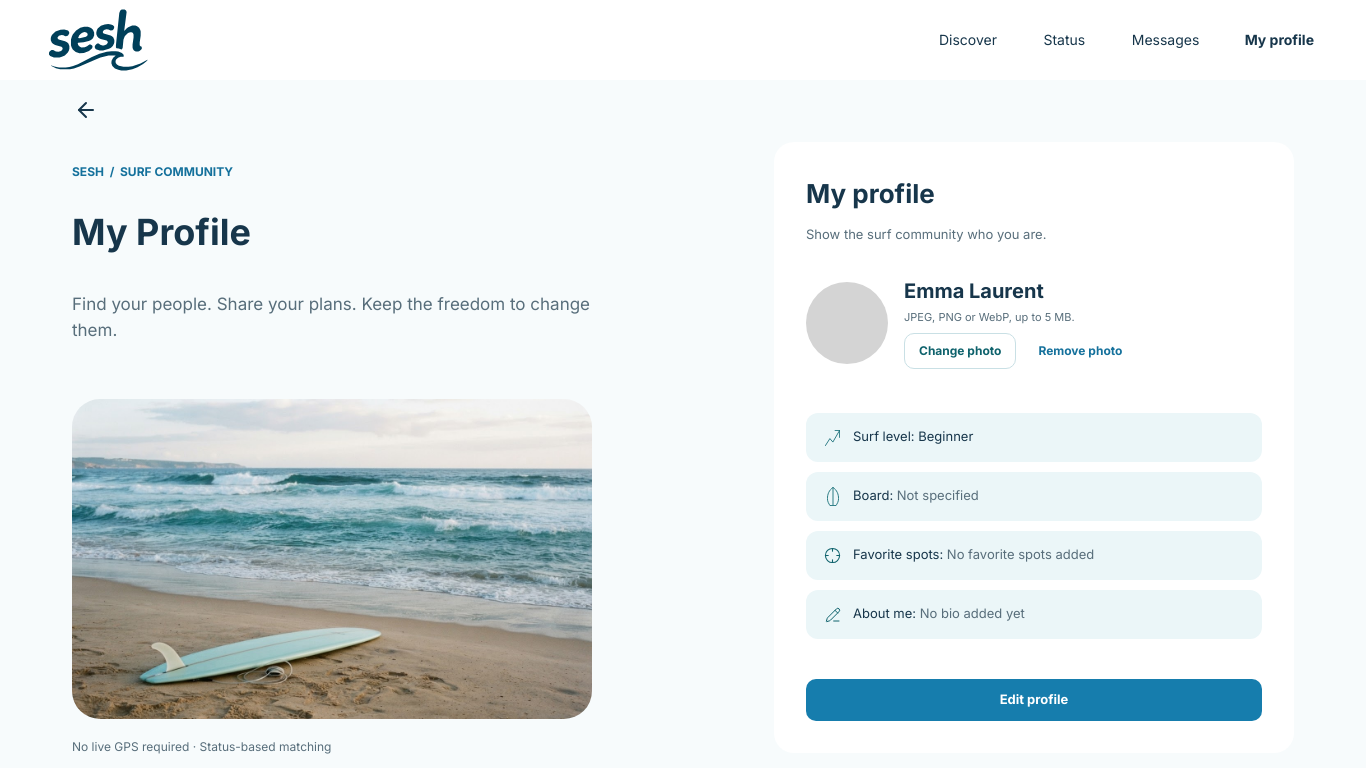
Test: My Profile picture › a failed removal keeps the picture and shows a message
The image size is (1366, 768).
Expected: the text "Emma Laurent" is shown, [904,278,1044,302]
Step 1. Click the button "Remove photo" → (1080, 351), box [1024,333,1136,369]
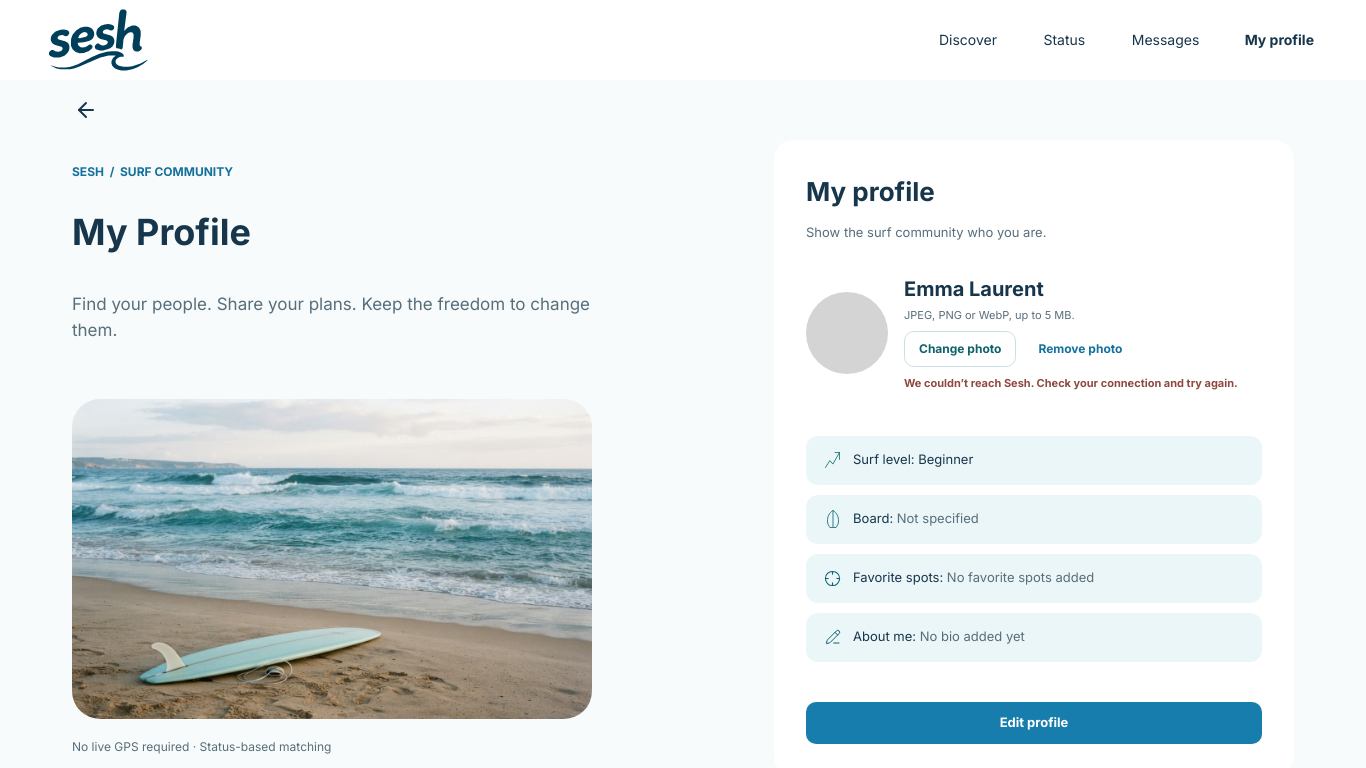
Now the message "We couldn’t reach Sesh. Check your connection and try again." is shown, box [904,375,1262,392]
